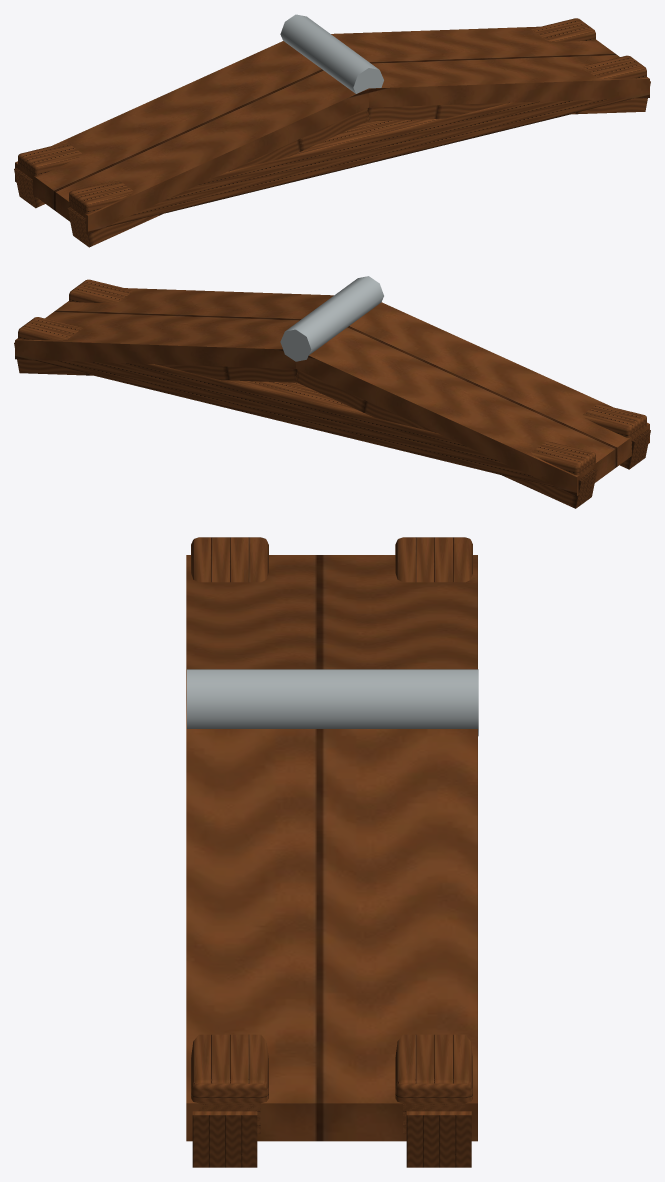
File: modular-survival-base-builder-roof-ridge-cap-4fa47e25__24247.glb
3 views of the same model, one above another, from view 1: azimuth 30°, elevation 25°; view 2: azimuth 150°, elevation 25°; view 3: azimuth 270°, elevation 25° (orthographic). The views are drawn at different scales.
Visible parts, largest first — view 1: roof-ridge-cap; view 2: roof-ridge-cap; view 3: roof-ridge-cap.
Boxes of the visible parts, <box> form: roof-ridge-cap: <box>14,14,650,247</box>; roof-ridge-cap: <box>14,276,650,508</box>; roof-ridge-cap: <box>186,537,478,1167</box>.
Bounding box in the file's own units: 2.02 × 0.3841 × 0.4512.
2 materials, 1 textured.
